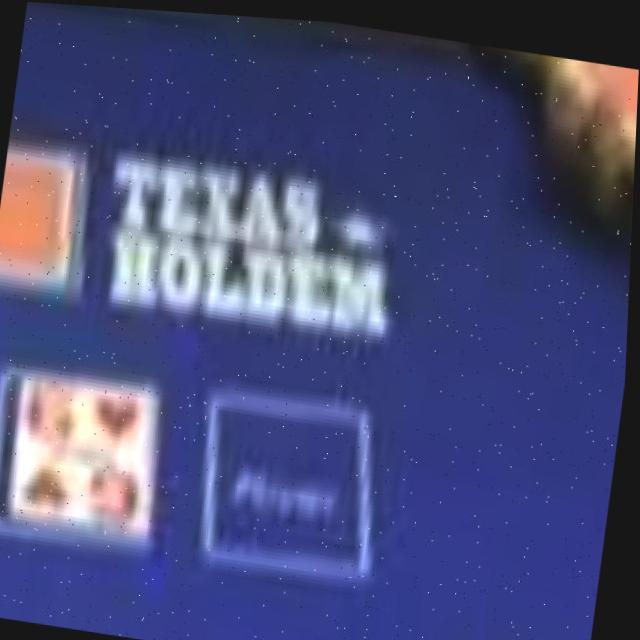Card-6: (15, 368, 159, 538)
